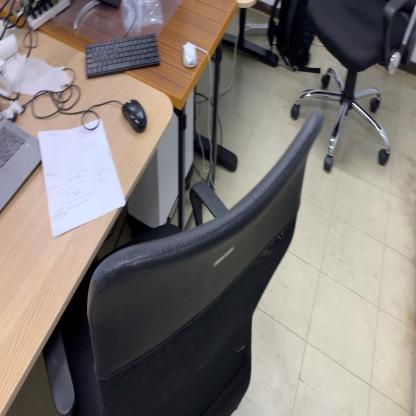chair: (44, 110, 324, 416), (291, 0, 415, 174)
